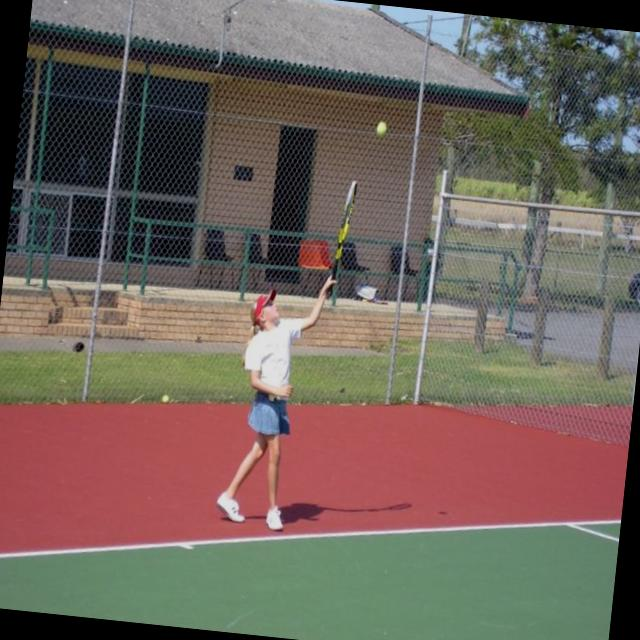Tennis Ball: (377, 122, 386, 136)
